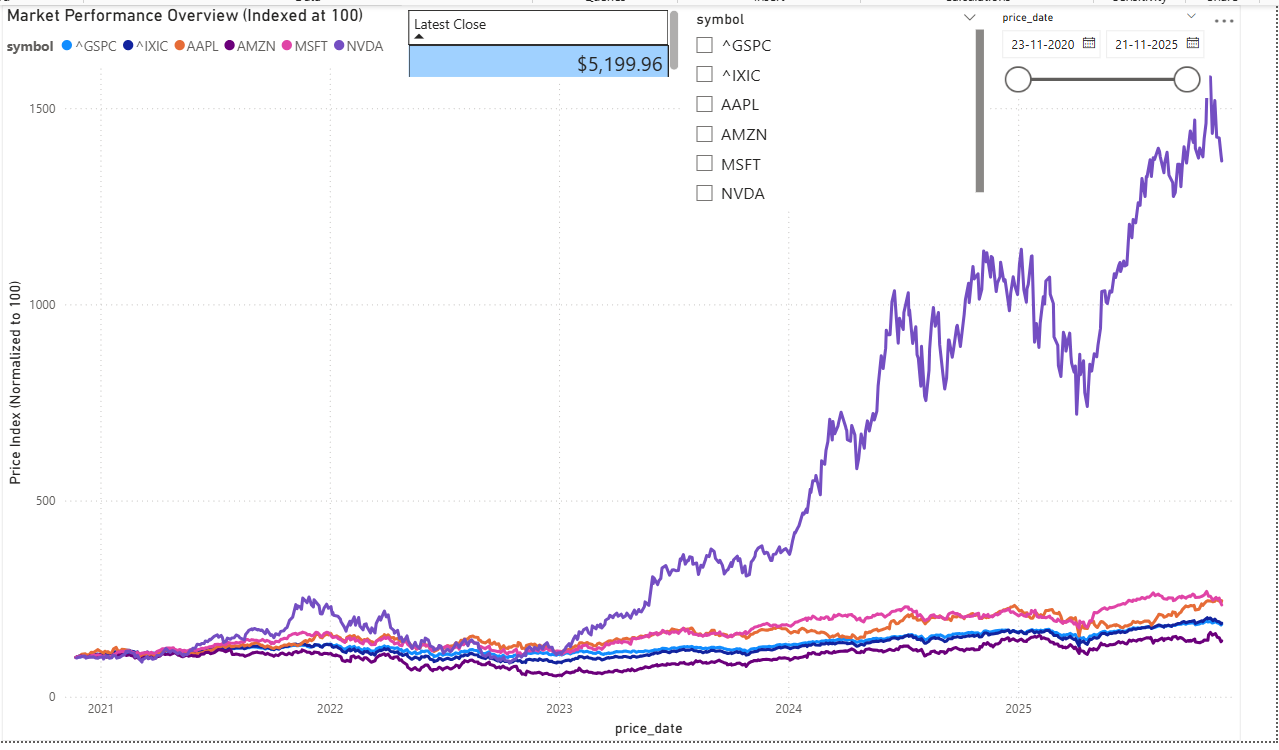

What the dashboard file says about the page in this screenshot:
{"tool":"powerbi","page":{"name":"Market performance","canvas":[1280,720],"ordinal":0},"visuals":[{"type":"lineChart","title":"Market Performance Overview (Indexed at 100)","fields":{"Y":["price_history.Close Index 100"],"Series":["price_history.symbol"],"Category":["price_history.price_date"]},"box":[32.9,0,1211.7,720.4],"z":0},{"type":"tableEx","fields":{"Values":["price_history.Latest Close"]},"box":[424,0,275.8,75.5],"z":1000},{"type":"slicer","fields":{"Values":["price_history.symbol"]},"box":[699.5,0,299.6,200.5],"z":2000},{"type":"slicer","fields":{"Values":["price_history.price_date"]},"box":[999.1,0,215.2,90.5],"z":3000}]}

Visuals, with their boxes on the page's 1280x720 design canvas (x1, y1, x2, y2). These are canvas units, not pixel positions in the 1279x750 screenshot, which may show the page scaled, cropped or inside an application window:
"Market Performance Overview (Indexed at 100)" lineChart: [33, 0, 1245, 720]
tableEx - price_history.Latest Close: [424, 0, 700, 76]
slicer - price_history.symbol: [700, 0, 999, 200]
slicer - price_history.price_date: [999, 0, 1214, 90]
